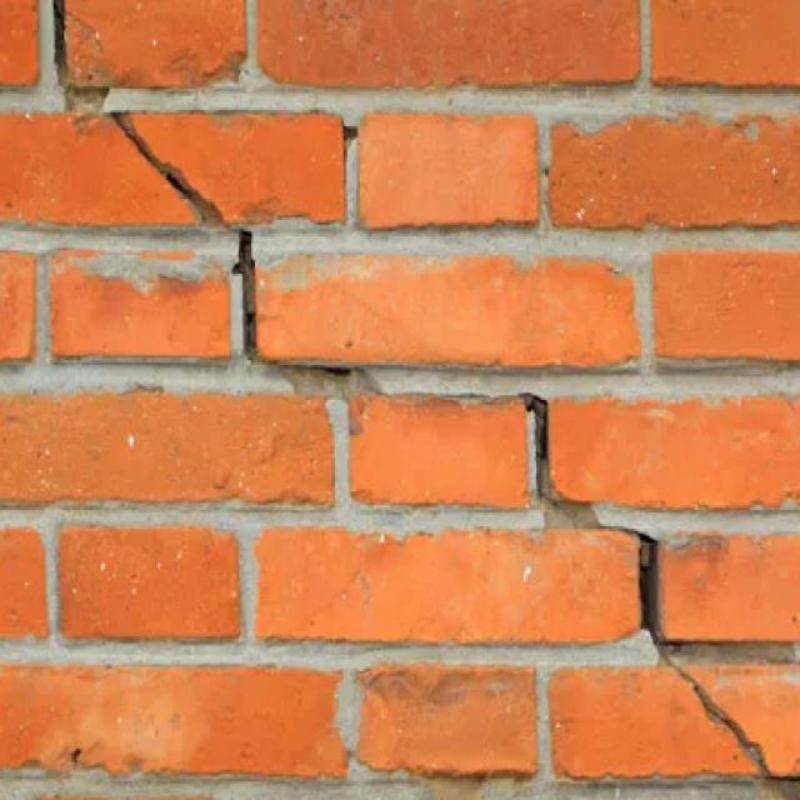crack: (640, 531, 769, 776), (112, 115, 223, 227), (526, 394, 597, 525), (54, 0, 107, 112), (233, 230, 255, 358), (271, 360, 364, 380)
